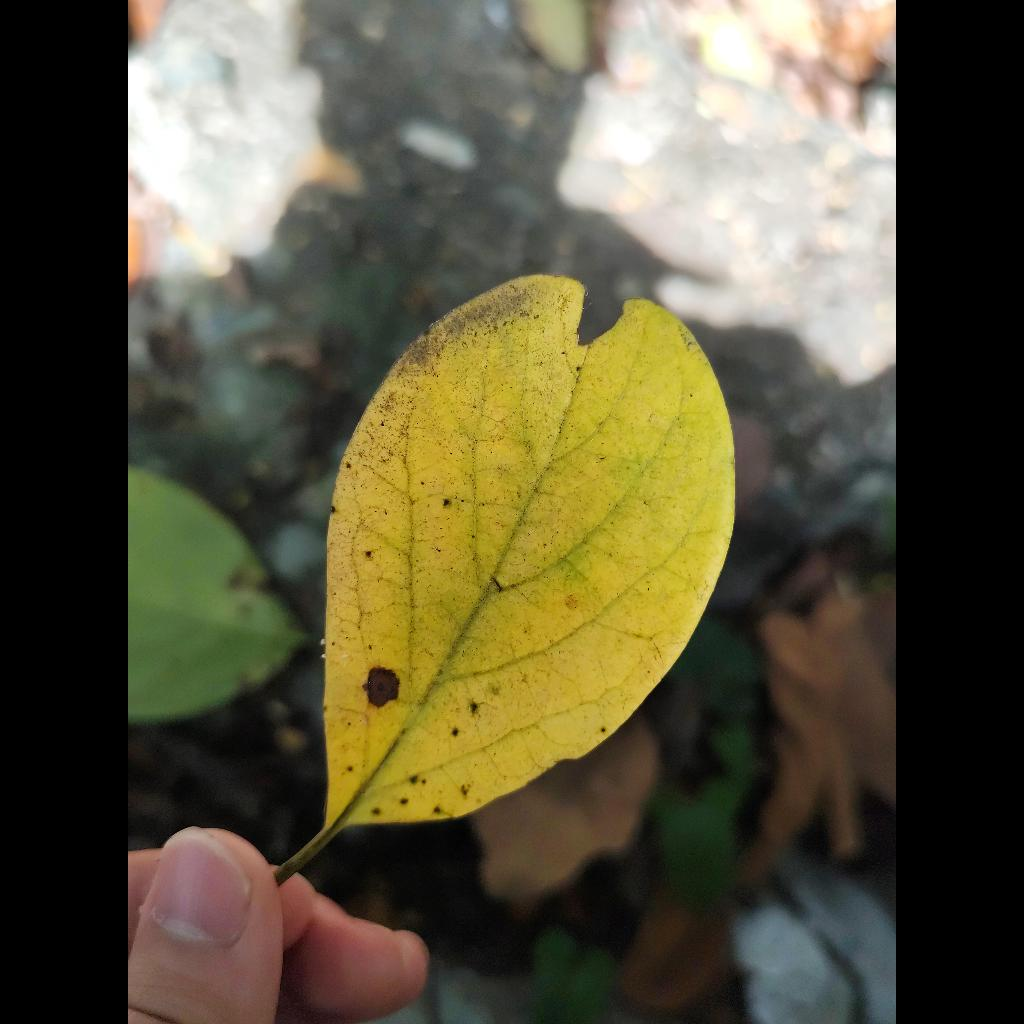deficiencia_nutricional: (282, 275, 734, 877)
